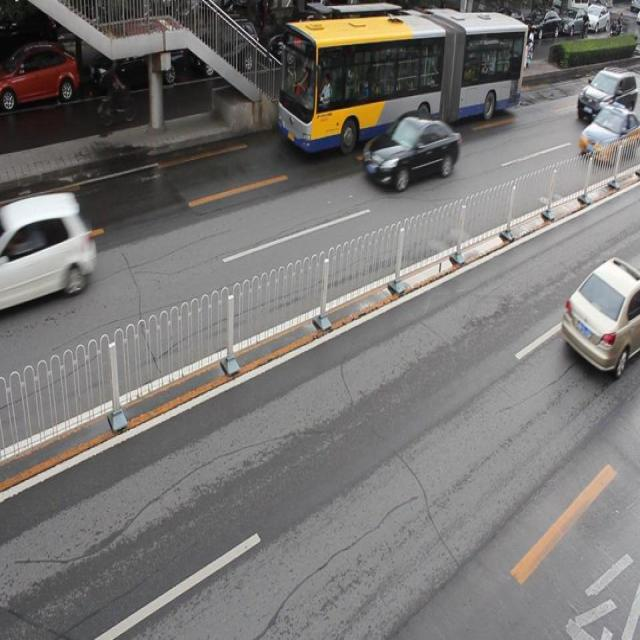car: (1, 192, 92, 309), (560, 256, 640, 374), (363, 109, 460, 193), (92, 33, 186, 95), (1, 46, 82, 112), (194, 15, 262, 77), (576, 102, 640, 160), (272, 15, 340, 67)
truck: (575, 65, 640, 126)
van: (279, 12, 526, 146)
